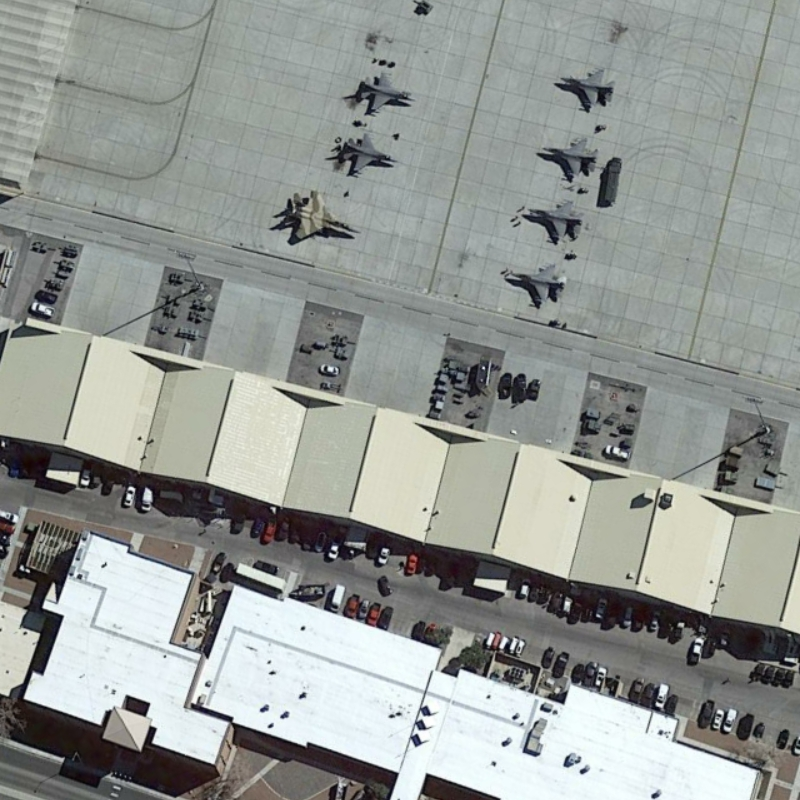A13: (278, 188, 364, 246)
A5: (356, 66, 419, 117), (505, 260, 570, 306), (538, 135, 600, 180), (339, 133, 402, 177), (557, 65, 617, 111), (527, 198, 587, 243)
